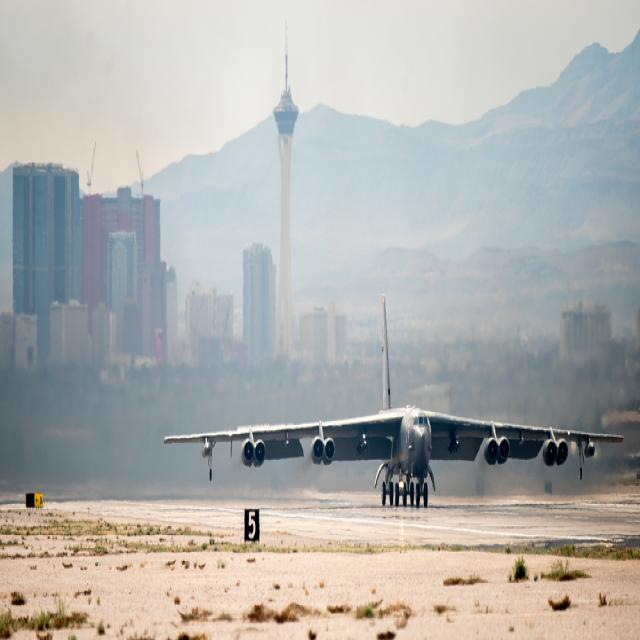MIL_Plane: (161, 293, 623, 508)
